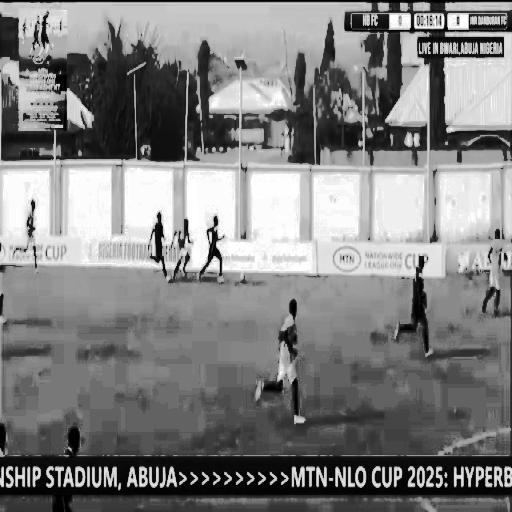ball: (237, 266, 247, 283)
team1: (259, 295, 309, 428), (479, 221, 506, 324), (14, 198, 43, 278), (174, 206, 192, 286)
team2: (394, 242, 442, 371), (201, 204, 228, 286), (146, 199, 170, 282)
